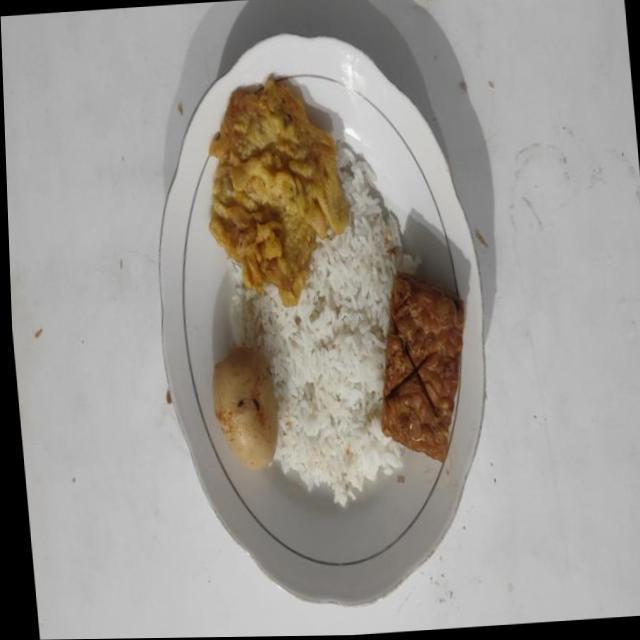nasi_putih: (233, 141, 417, 506)
tempe_goreng: (382, 272, 464, 462)
